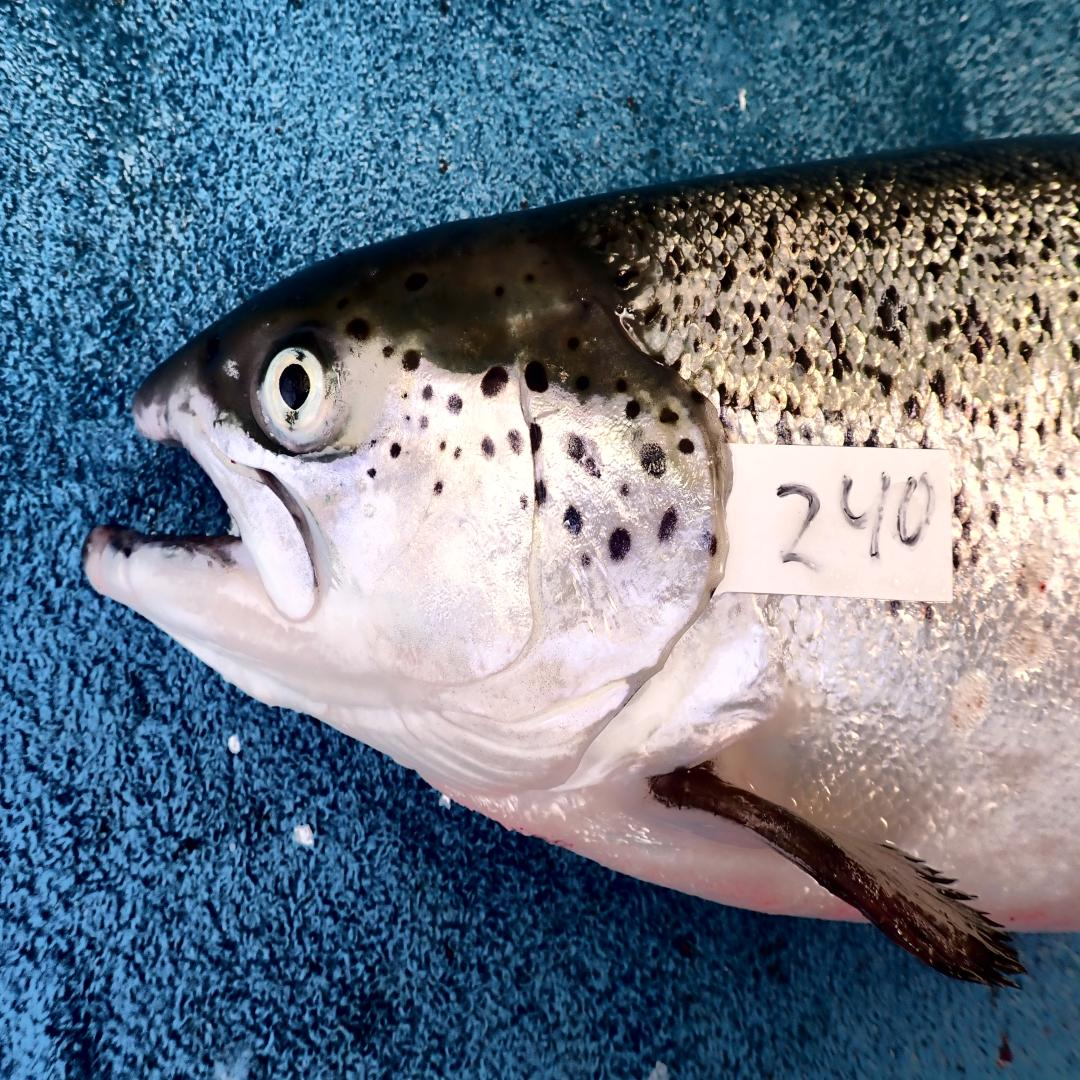spot: (641, 444, 667, 478), (481, 366, 508, 397), (525, 360, 548, 394), (658, 506, 679, 543), (610, 529, 631, 560), (563, 506, 582, 534), (567, 436, 584, 461), (403, 349, 422, 371), (529, 422, 542, 453), (508, 430, 523, 456), (582, 458, 601, 478), (704, 531, 717, 560), (660, 408, 679, 425), (626, 399, 641, 419), (447, 394, 462, 413), (481, 436, 494, 456), (679, 439, 694, 456), (536, 481, 546, 503), (518, 492, 528, 510), (390, 442, 401, 458), (620, 484, 631, 500), (452, 444, 462, 461), (433, 480, 444, 495), (422, 385, 432, 399), (366, 466, 376, 480), (420, 416, 428, 430), (438, 440, 446, 453), (582, 554, 591, 565), (400, 391, 409, 399), (405, 415, 413, 422)
